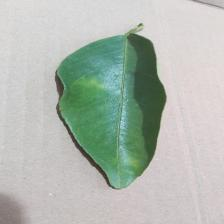greening: (63, 70, 156, 172), (86, 39, 142, 54)
